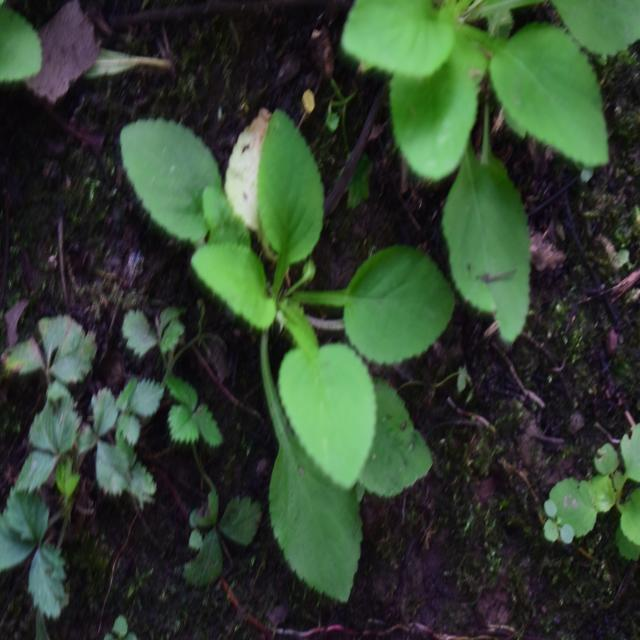Viola: (158, 109, 485, 535)
